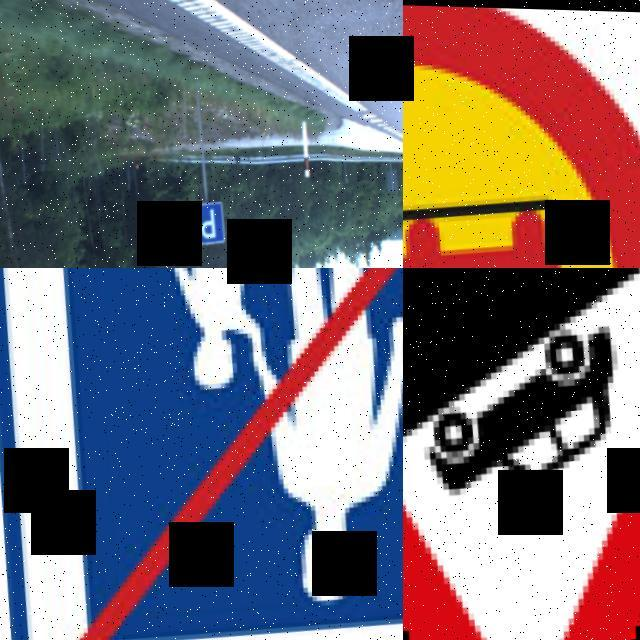34: (403, 0, 640, 268)
51: (0, 268, 403, 640)
86: (190, 194, 231, 248)
Steep ascent: (403, 268, 640, 640)
